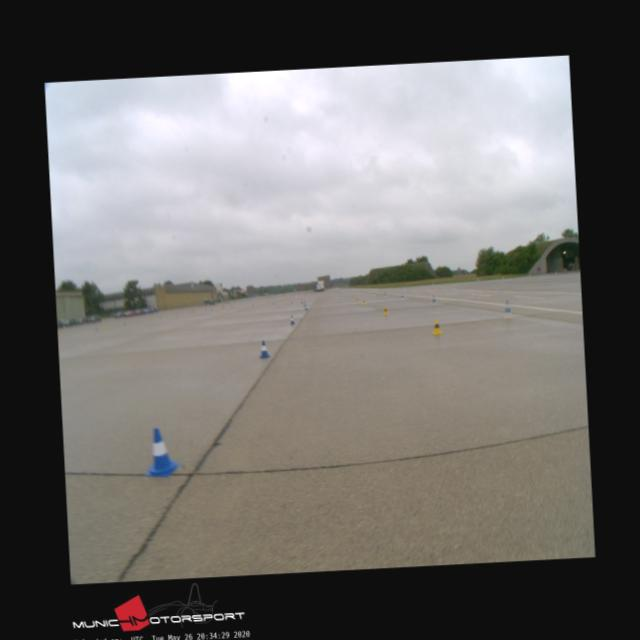blue_cone: (143, 428, 180, 477), (258, 339, 269, 356), (290, 315, 295, 324)
yellow_cone: (432, 319, 442, 336), (383, 306, 388, 315)
